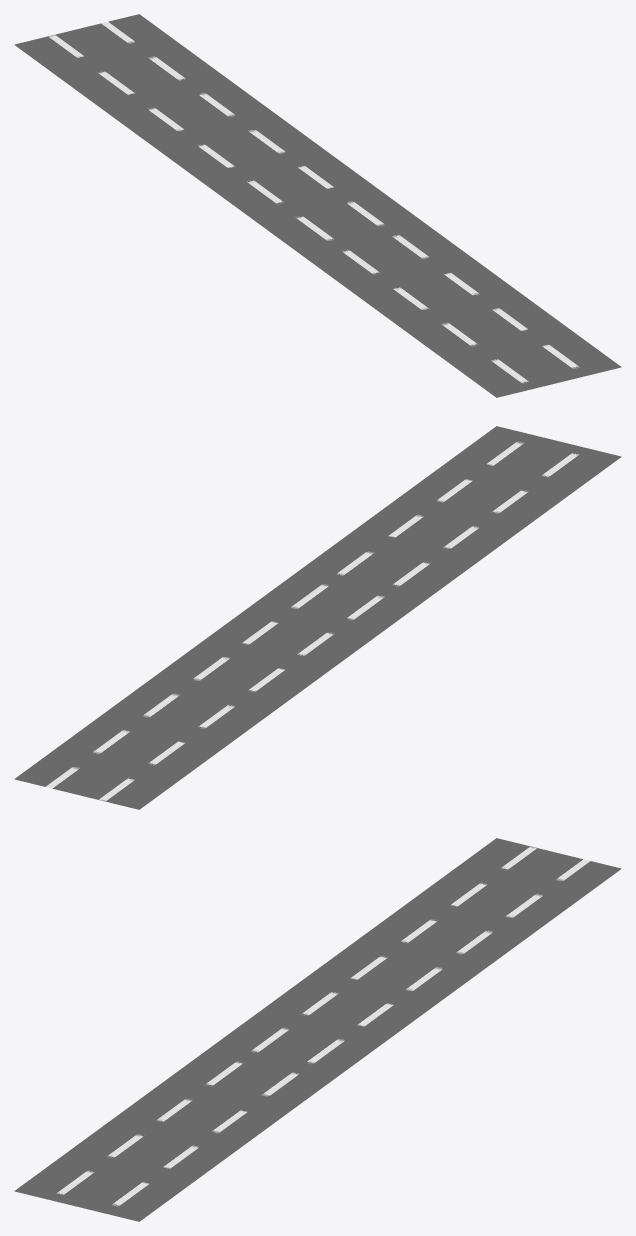
Rendered from road2.obj.
3 views of the same model, one above another, from view 1: azimuth 30°, elevation 25°; view 2: azimuth 150°, elevation 25°; view 3: azimuth 330°, elevation 25° (orthographic).
Parts seen in each view (by area): view 1: Plane.001_Plane.002; view 2: Plane.001_Plane.002; view 3: Plane.001_Plane.002.
Part boxes in pixels (x1,y1,x2,y2): Plane.001_Plane.002: (14, 14, 621, 397); Plane.001_Plane.002: (14, 426, 621, 809); Plane.001_Plane.002: (14, 838, 621, 1221).
Size of the model in its own units: 30 by 3.2e-05 by 200.
